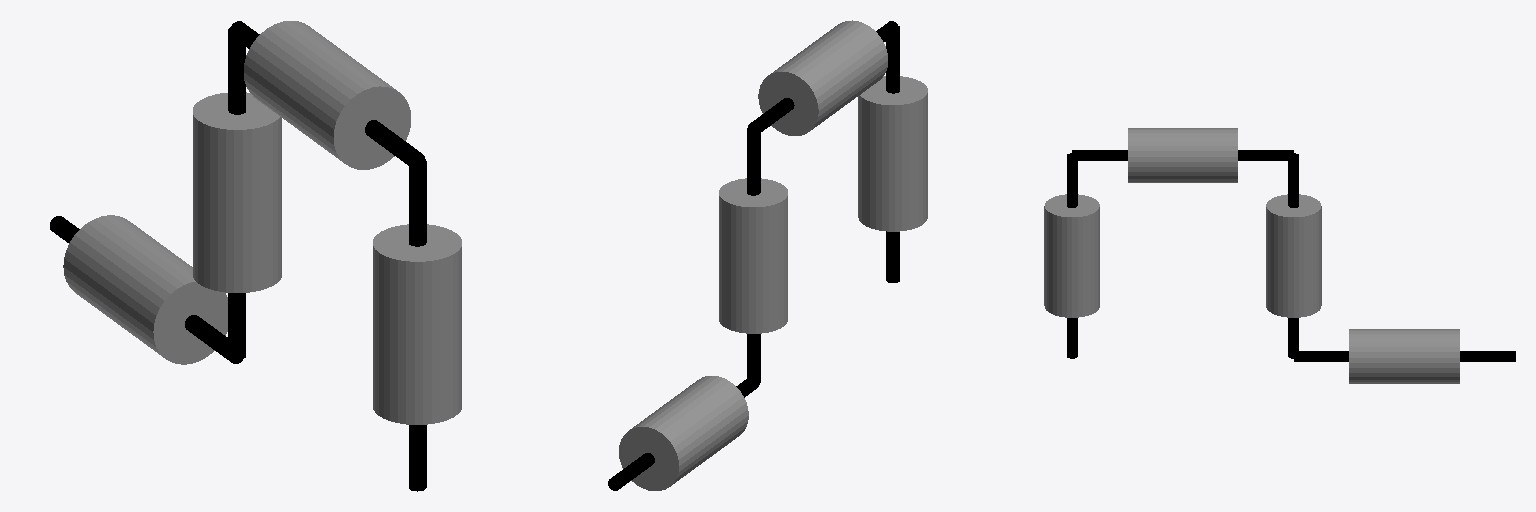
The robot description file, URDF, robot "FourDOF":
<?xml version="1.0"?>

<robot name="FourDOF">
  
  <!-- *************************************************** -->
  <!-- ******************** Kinematics ******************* -->
  <!-- *************************************************** -->
  <!-- Note the 'origin' tag in the joints defines the shift and
       reorientation, i.e. the transform.  For moving joints, this
       happens before the continuous joint rotates around 'axis'. -->

  <link name="world">
  </link>

  <joint name="prime0" type="fixed">
    <parent link="world"/>
    <child  link="prime0"/>
    <origin xyz="0 0 0" rpy="0 0 0"/>
  </joint>

  <link name="prime0">
  </link>

  <joint name="theta1" type="continuous">
    <parent link="prime0"/>
    <child  link="link1"/>
    <origin xyz="0 0 0" rpy="0 0 0"/>
    <axis   xyz="0 0 1"/>
  </joint>

  <link name="link1">
  </link>

  <joint name="prime1" type="fixed">
    <parent link="link1"/>
    <child  link="prime1"/>
    <origin xyz="0 0 0.4" rpy="-1.5708 0 0"/>
  </joint>

  <link name="prime1">
  </link>

  <joint name="theta2" type="continuous">
    <parent link="prime1"/>
    <child  link="link2"/>
    <origin xyz="0 0 0" rpy="0 0 0"/>
    <axis   xyz="0 0 1"/>
  </joint>

  <link name="link2">
  </link>

  <joint name="prime2" type="fixed">
    <parent link="link2"/>
    <child  link="prime2"/>
    <origin xyz="0 0 0.4" rpy="-1.5708 0 0"/>
  </joint>

  <link name="prime2">
  </link>

  <joint name="theta3" type="continuous">
    <parent link="prime2"/>
    <child  link="link3"/>
    <origin xyz="0 0 0" rpy="0 0 0"/>
    <axis   xyz="0 0 1"/>
  </joint>

  <link name="link3">
  </link>

  <joint name="prime3" type="fixed">
    <parent link="link3"/>
    <child  link="prime3"/>
    <origin xyz="0 0 0.4" rpy="1.5708 0 0"/>
  </joint>

  <link name="prime3">
  </link>

  <joint name="theta4" type="continuous">
    <parent link="prime3"/>
    <child  link="link4"/>
    <origin xyz="0 0 0" rpy="0 0 0"/>
    <axis   xyz="0 0 1"/>
  </joint>

  <link name="link4">
  </link>

  <joint name="final" type="fixed">
    <parent link="link4"/>
    <child  link="tip"/>
    <origin xyz="0 0 0.4" rpy="1.5708 0 0"/>
  </joint>

  <link name="tip">
  </link>


  <!-- *************************************************** -->
  <!-- ******************* RVIZ Colors ******************* -->
  <!-- *************************************************** -->

  <material name="white">    <color rgba="1.00 1.00 1.00 1"/>  </material>
  <material name="gray">     <color rgba="0.60 0.60 0.60 1"/>  </material>
  <material name="table">    <color rgba="0.85 0.77 0.77 1"/>  </material>
  <material name="black">    <color rgba="0.00 0.00 0.00 1"/>  </material>

  <material name="red">      <color rgba="1.00 0.00 0.00 1"/>  </material>
  <material name="green">    <color rgba="0.00 1.00 0.00 1"/>  </material>
  <material name="blue">     <color rgba="0.00 0.00 1.00 1"/>  </material>

  <material name="cyan">     <color rgba="0.00 1.00 1.00 1"/>  </material>
  <material name="magenta">  <color rgba="1.00 0.00 1.00 1"/>  </material>
  <material name="yellow">   <color rgba="1.00 1.00 0.00 1"/>  </material>

  <material name="orange">   <color rgba="1.00 0.65 0.00 1"/>  </material>


  <!-- *************************************************** -->
  <!-- ************* Visual Building Blocks ************** -->
  <!-- *************************************************** -->

  <!-- THESE ARE EXAMPLES... PLAY AS YOU LIKE -->

  <!-- *** Attach a visual of motor 1 to prime0 frame (link) *** -->

  <joint name="attach-motor1" type="fixed">
    <parent link="prime0"/>
    <child  link="motor1"/>
  </joint>
  <link name="motor1">
    <visual>
      <origin xyz="0 0 0.2" rpy="0 0 0"/>
      <geometry>
	<cylinder length="0.2" radius="0.05"/>
      </geometry>
      <material name="gray"/>
    </visual>
  </link>

  <joint name="attach-motor2" type="fixed">
    <parent link="prime1"/>
    <child  link="motor2"/>
  </joint>
  <link name="motor2">
    <visual>
      <origin xyz="0 0 0.2" rpy="0 0 0"/>
      <geometry>
	<cylinder length="0.2" radius="0.05"/>
      </geometry>
      <material name="gray"/>
    </visual>
  </link>

  <joint name="attach-motor3" type="fixed">
    <parent link="prime2"/>
    <child  link="motor3"/>
  </joint>
  <link name="motor3">
    <visual>
      <origin xyz="0 0 0.2" rpy="0 0 0"/>
      <geometry>
	<cylinder length="0.2" radius="0.05"/>
      </geometry>
      <material name="gray"/>
    </visual>
  </link>

  <joint name="attach-motor4" type="fixed">
    <parent link="prime3"/>
    <child  link="motor4"/>
  </joint>
  <link name="motor4">
    <visual>
      <origin xyz="0 0 0.2" rpy="0 0 0"/>
      <geometry>
	<cylinder length="0.2" radius="0.05"/>
      </geometry>
      <material name="gray"/>
    </visual>
  </link>

  <!-- *** Attach a visual of a rod to prime2 *** -->

  <joint name="attach-rod1" type="fixed">
    <parent link="prime0"/>
    <child  link="rod1"/>
  </joint>
  <link name="rod1">
    <visual>
      <origin xyz="0 0 0.2" rpy="0 0 0"/>
      <geometry>
	<cylinder length="0.4" radius="0.01"/>
      </geometry>
      <material name="black"/>
    </visual>
  </link>

  <joint name="attach-rod2" type="fixed">
    <parent link="prime1"/>
    <child  link="rod2"/>
  </joint>
  <link name="rod2">
    <visual>
      <origin xyz="0 0 0.2" rpy="0 0 0"/>
      <geometry>
	<cylinder length="0.4" radius="0.01"/>
      </geometry>
      <material name="black"/>
    </visual>
  </link>

  <joint name="attach-rod3" type="fixed">
    <parent link="prime2"/>
    <child  link="rod3"/>
  </joint>
  <link name="rod3">
    <visual>
      <origin xyz="0 0 0.2" rpy="0 0 0"/>
      <geometry>
	<cylinder length="0.4" radius="0.01"/>
      </geometry>
      <material name="black"/>
    </visual>
  </link>

  <joint name="attach-rod4" type="fixed">
    <parent link="prime3"/>
    <child  link="rod4"/>
  </joint>
  <link name="rod4">
    <visual>
      <origin xyz="0 0 0.2" rpy="0 0 0"/>
      <geometry>
	<cylinder length="0.4" radius="0.01"/>
      </geometry>
      <material name="black"/>
    </visual>
  </link>

</robot>

--- What the picture shows (computed from the rendered views, not written in the file) ---
The picture shows the robot from 3 angles, left to right: view 1: azimuth 30°, elevation 25°; view 2: azimuth 150°, elevation 25°; view 3: azimuth 270°, elevation 25°; orthographic projection.
Model FourDOF with 18 links and 17 joints (4 continuous, 13 fixed), rooted at world, posed all joints at 0.
Links seen in each view (by area): view 1: motor1, motor3, motor2, motor4, rod1, rod3, rod2, rod4; view 2: motor3, motor1, motor2, motor4, rod3, rod1, rod4, rod2; view 3: motor1, motor3, motor4, motor2, rod2, rod4, rod1, rod3.
Boxes of the visible links, bbox=[...] form: motor1: bbox=[373, 224, 461, 424]; motor3: bbox=[193, 92, 281, 292]; motor2: bbox=[244, 21, 410, 169]; motor4: bbox=[63, 215, 227, 364]; rod1: bbox=[409, 159, 426, 491]; rod3: bbox=[228, 28, 245, 359]; rod2: bbox=[230, 21, 424, 165]; rod4: bbox=[50, 216, 242, 363]; motor3: bbox=[719, 178, 787, 333]; motor1: bbox=[858, 76, 927, 231]; motor2: bbox=[758, 20, 887, 135]; motor4: bbox=[619, 376, 748, 490]; rod3: bbox=[747, 128, 760, 383]; rod1: bbox=[886, 26, 899, 282]; rod4: bbox=[608, 378, 759, 490]; rod2: bbox=[748, 21, 898, 131]; motor1: bbox=[1044, 194, 1099, 317]; motor3: bbox=[1266, 194, 1321, 317]; motor4: bbox=[1349, 329, 1459, 383]; motor2: bbox=[1128, 128, 1237, 182]; rod2: bbox=[1072, 150, 1293, 160]; rod4: bbox=[1294, 351, 1515, 361]; rod1: bbox=[1067, 153, 1077, 358]; rod3: bbox=[1288, 153, 1298, 358].
Size in the robot's own frame: 0.1 by 0.85 by 0.5 metres.
Geometry: primitives only (box / cylinder / sphere), no mesh files.